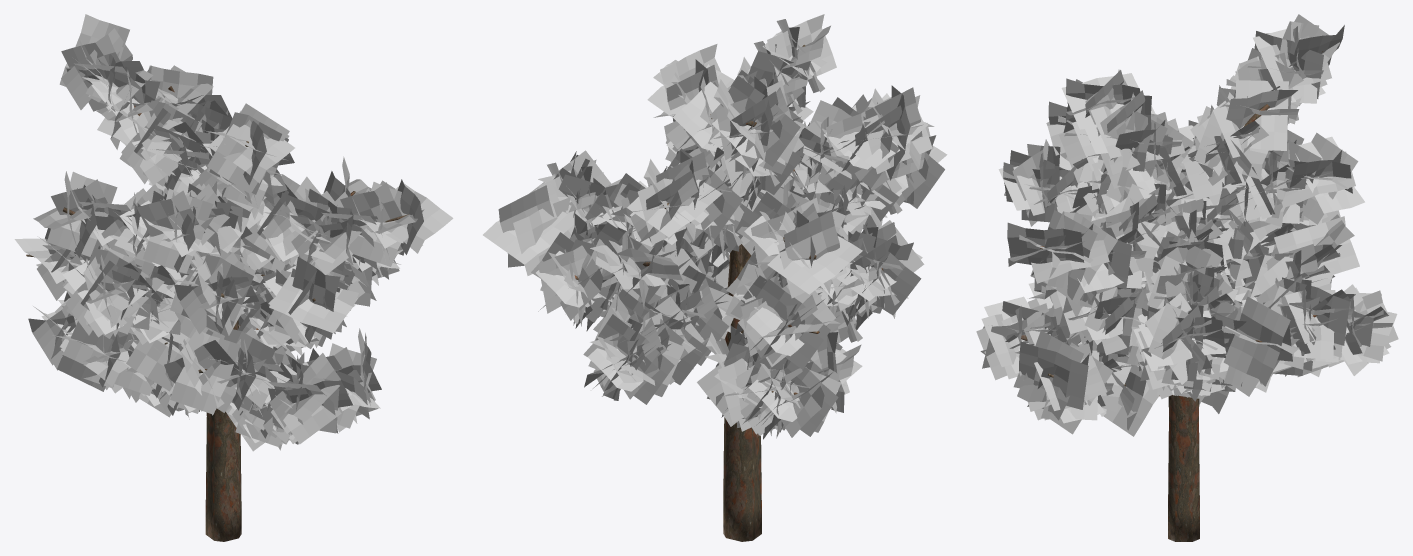
Rendered from Tree.fbx.
3 renders of one model, left to right at view 1: azimuth 30°, elevation 25°; view 2: azimuth 150°, elevation 25°; view 3: azimuth 270°, elevation 25°, orthographic. The views are drawn at different scales.
Visible parts, largest first — view 1: Empty.002, Cube; view 2: Empty.002, Cube; view 3: Empty.002, Cube.
Boxes of the visible parts, x1,y1,x2,y2 form: Empty.002: (14,14,453,451); Cube: (26,86,408,541); Empty.002: (483,14,947,439); Cube: (574,45,883,541); Empty.002: (976,14,1398,436); Cube: (1021,51,1323,541).
Size of the model in its own units: 1479 by 1900 by 1505.
